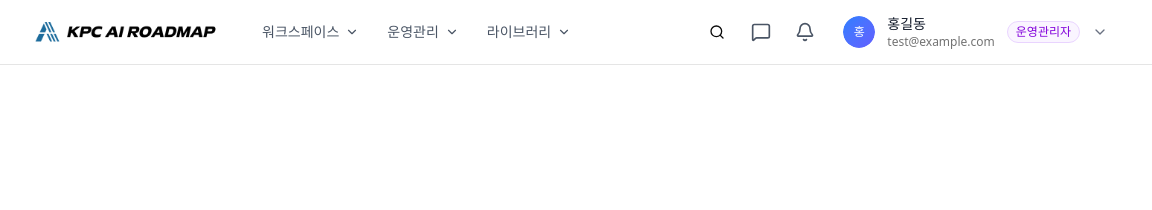
Test: Navigation › OPS 관리자 역할 › 드롭다운 클릭 시 하위 메뉴가 열린다
Click the button "워크스페이스": coordinates (311, 32) x1=250 y1=14 x2=371 y2=50
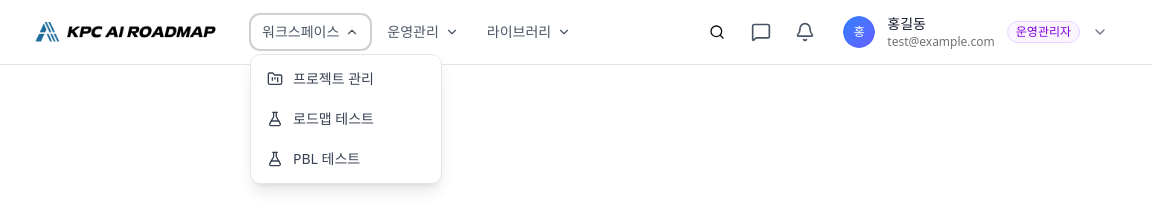
Result: the link "프로젝트 관리" is shown at x1=267 y1=69 x2=374 y2=88
Result: the link "로드맵 테스트" is shown at x1=267 y1=109 x2=374 y2=128
